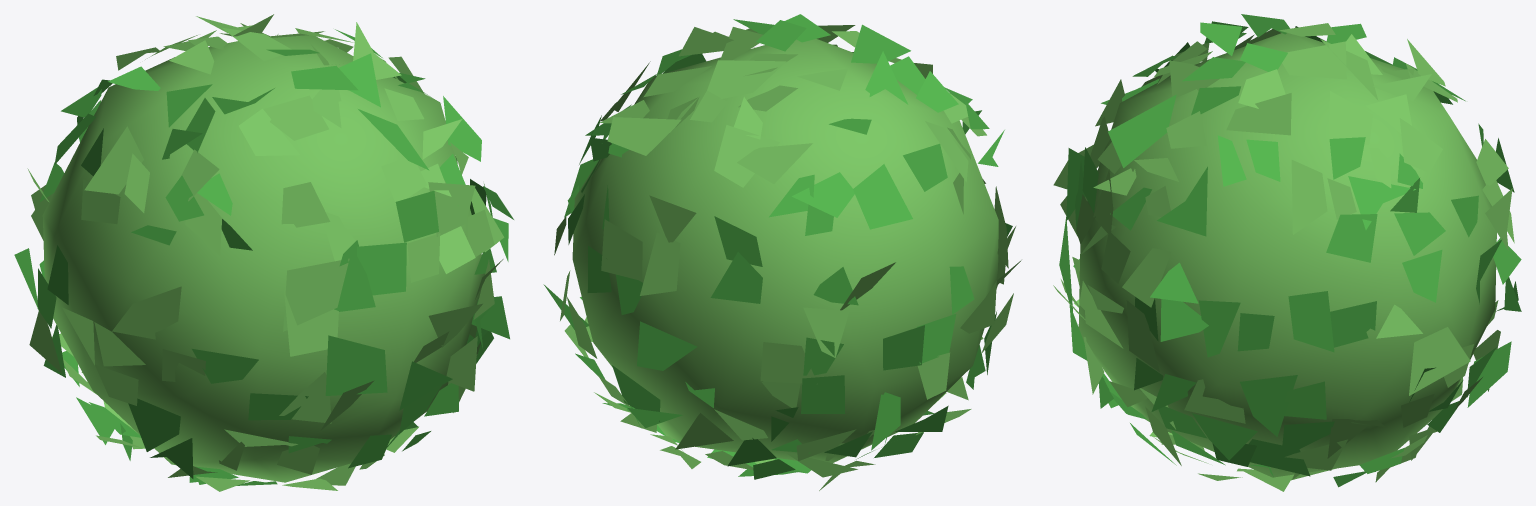
Rendered from BushStylized.fbx.
3 renders of one model, left to right at view 1: azimuth 30°, elevation 25°; view 2: azimuth 150°, elevation 25°; view 3: azimuth 270°, elevation 25°, orthographic. The views are drawn at different scales.
Parts seen in each view (by area): view 1: Cube.002, Cube.003; view 2: Cube.002, Cube.003; view 3: Cube.003, Cube.002.
Boxes of the visible parts, <box> form: Cube.002: <box>42,35,484,482</box>; Cube.003: <box>14,14,513,491</box>; Cube.002: <box>572,39,998,463</box>; Cube.003: <box>543,14,1021,490</box>; Cube.003: <box>1053,14,1521,491</box>; Cube.002: <box>1078,33,1496,477</box>.
Size of the model in its own units: 182 by 184 by 184.
